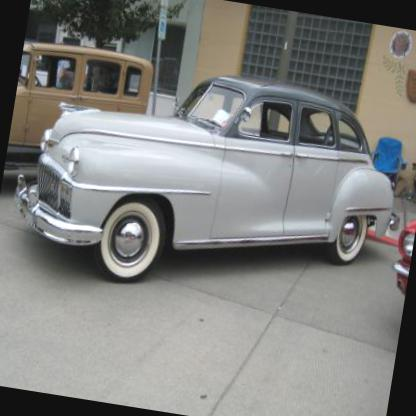car: (3, 44, 415, 324), (3, 35, 156, 192), (384, 210, 415, 302)
